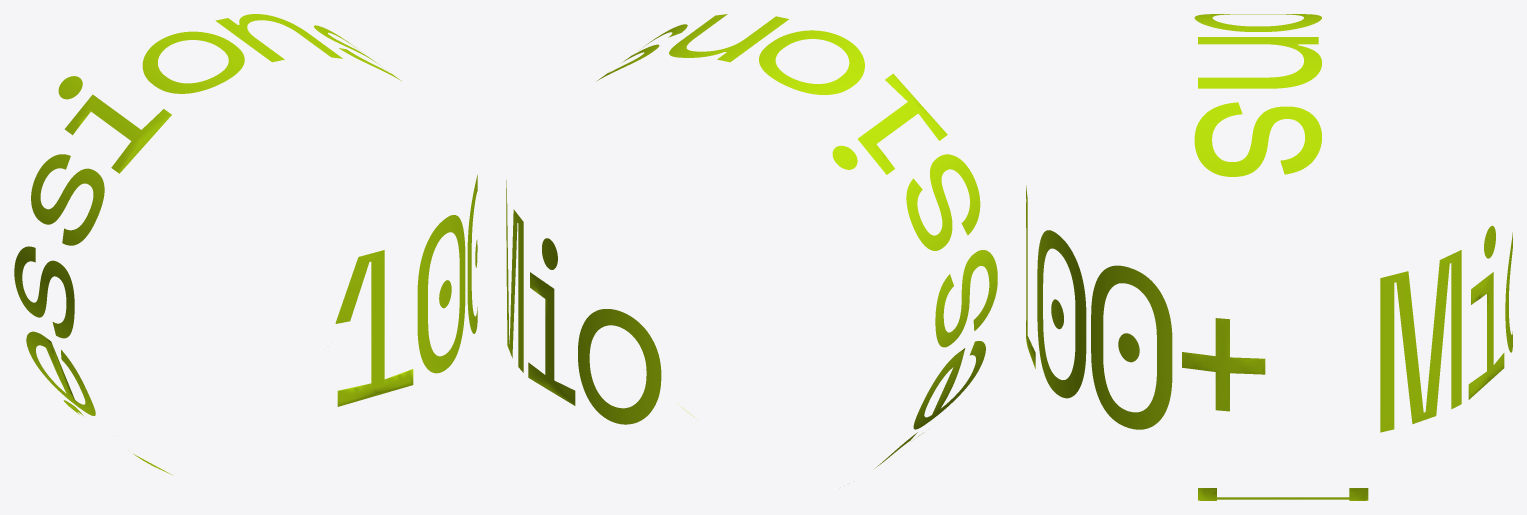
File: 100mio.glb
The picture shows the model from 3 angles, left to right: view 1: azimuth 30°, elevation 25°; view 2: azimuth 150°, elevation 25°; view 3: azimuth 270°, elevation 25°; orthographic projection. The views are drawn at different scales.
Parts seen in each view (by area): view 1: MoText; view 2: MoText; view 3: MoText.
Part boxes in pixels (box(x1,y1,x2,y2)): MoText: box(14, 14, 477, 474); MoText: box(506, 14, 997, 483); MoText: box(1026, 14, 1512, 500).
Bounding box in the file's own units: 410 × 400 × 400.
